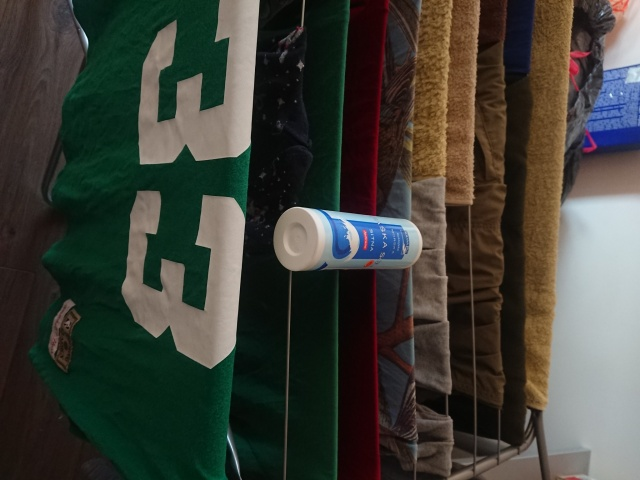Solana Pag Fine Sea Salt 250g: (270, 205, 425, 274)
